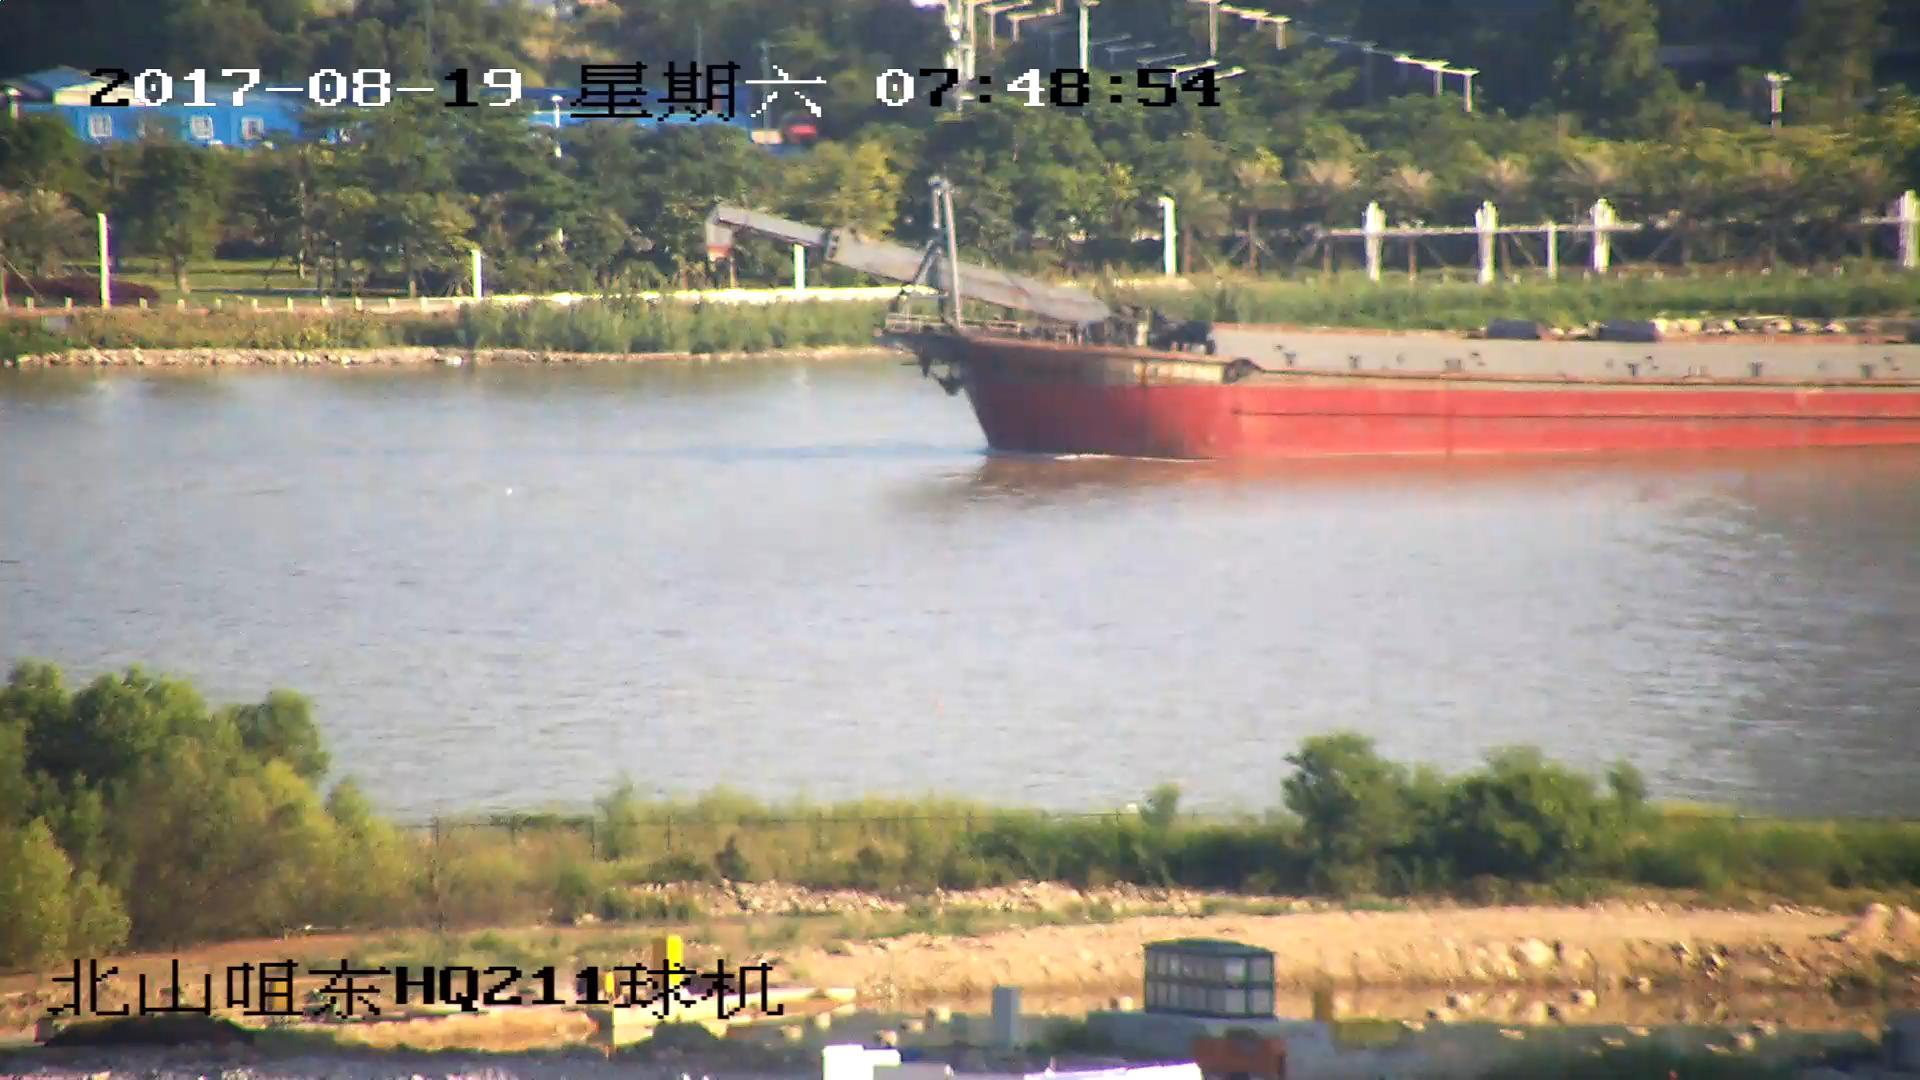Ship: (709, 194, 1920, 460)
